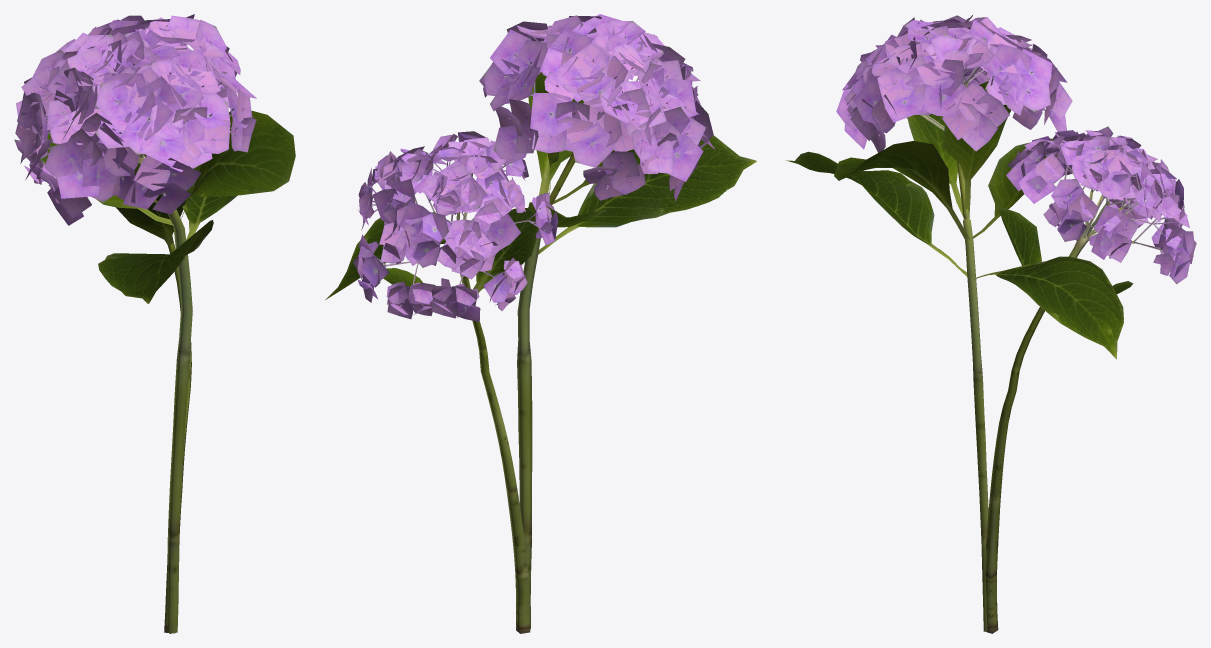
The model's file is Hydrangea_bush_short_magenta.glb.
3 views of the same model, side by side, from view 1: azimuth 30°, elevation 25°; view 2: azimuth 150°, elevation 25°; view 3: azimuth 270°, elevation 25° (orthographic). The views are drawn at different scales.
Visible parts, largest first — view 1: BUSHEKK; view 2: BUSHEKK; view 3: BUSHEKK.
Part boxes in pixels (<box>): BUSHEKK: <box>14,14,295,633</box>; BUSHEKK: <box>325,14,756,633</box>; BUSHEKK: <box>786,15,1196,633</box>.
Size of the model in its own units: 1.48 by 2.94 by 1.87.
Materials: 1 (1 with a texture image).
